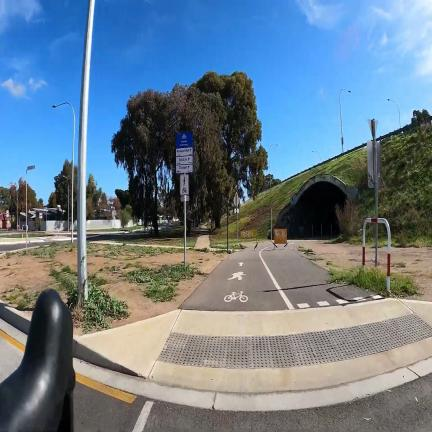Bike_Lane: (181, 242, 365, 312)
Bike_Sign: (176, 132, 193, 173)
